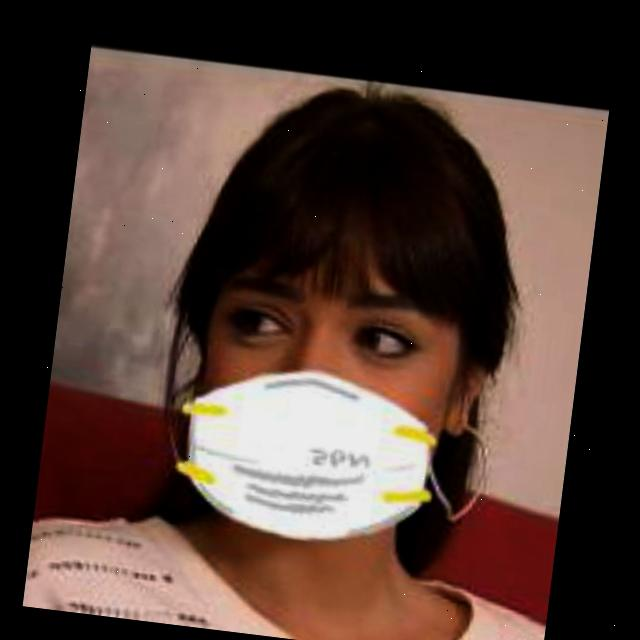suspicion: (114, 53, 598, 566)
